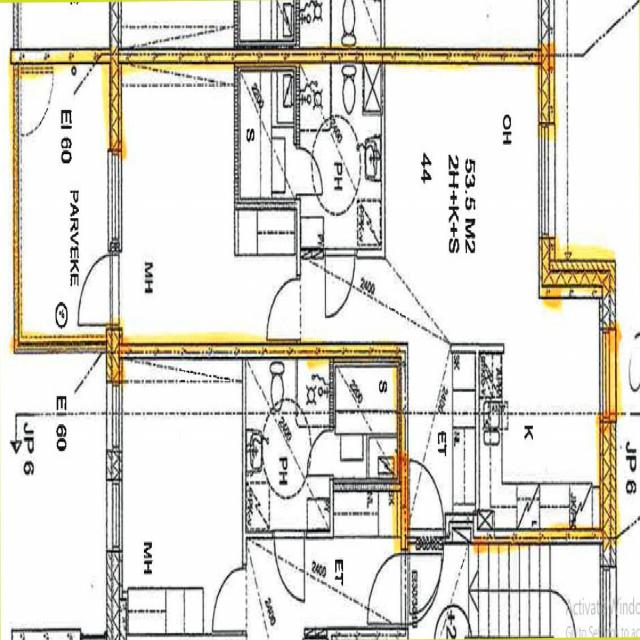door: (76, 256, 120, 324), (410, 529, 443, 611), (410, 462, 443, 542), (266, 278, 300, 339), (325, 249, 355, 317), (295, 148, 322, 194)
